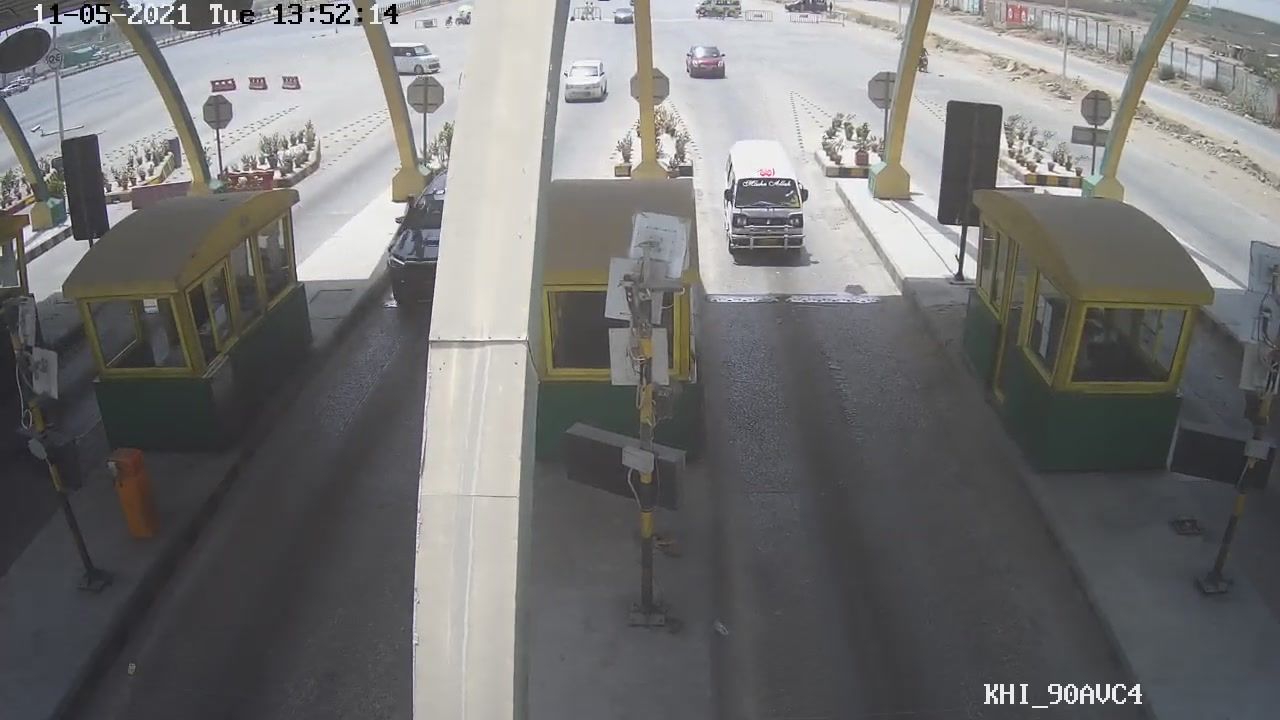F1: (721, 127, 815, 271)
